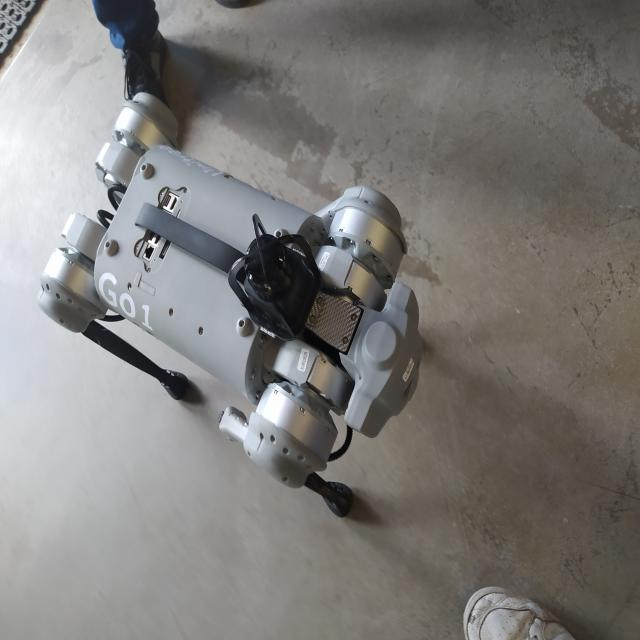unitree-go1-robot: (29, 76, 430, 546)
